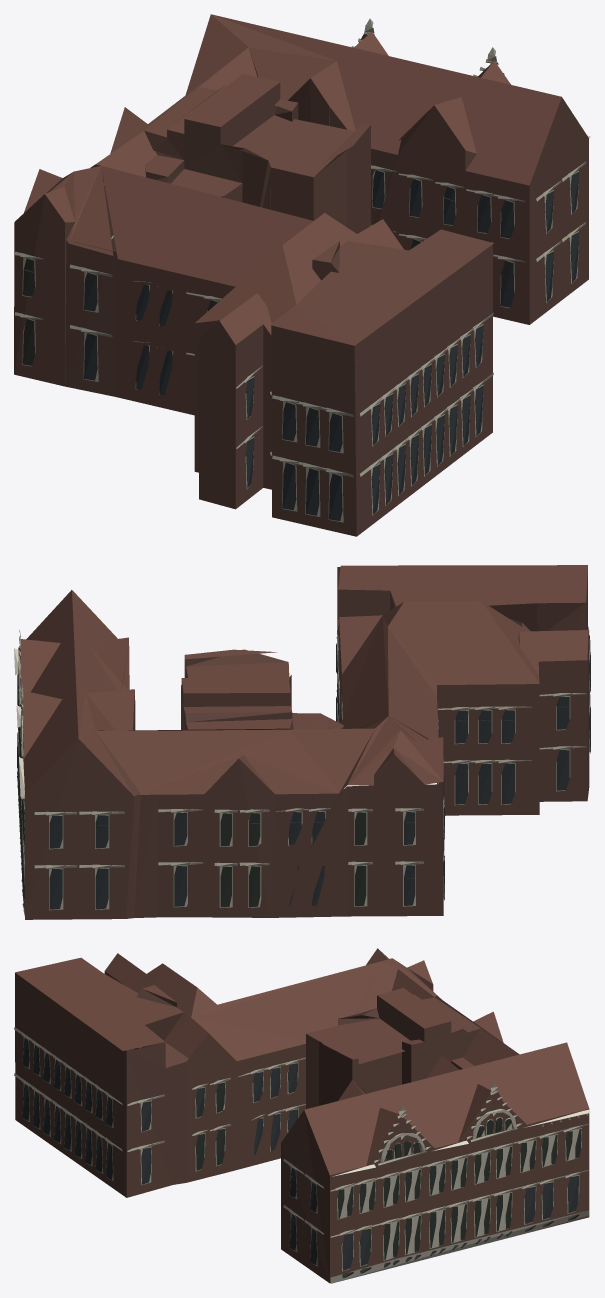
The model's file is mauritskade-61.lod1.glb.
The picture shows the model from 3 angles, top to bottom: view 1: azimuth 30°, elevation 25°; view 2: azimuth 150°, elevation 25°; view 3: azimuth 270°, elevation 25°; orthographic projection. The views are drawn at different scales.
Visible parts, largest first — view 1: mauritskade-61; view 2: mauritskade-61; view 3: mauritskade-61.
Part boxes in pixels (box(x1,y1,x2,y2)): mauritskade-61: box(14, 14, 590, 536); mauritskade-61: box(14, 565, 590, 919); mauritskade-61: box(14, 948, 590, 1283).
Bounding box in the file's own units: 54.41 × 21.08 × 66.77.
